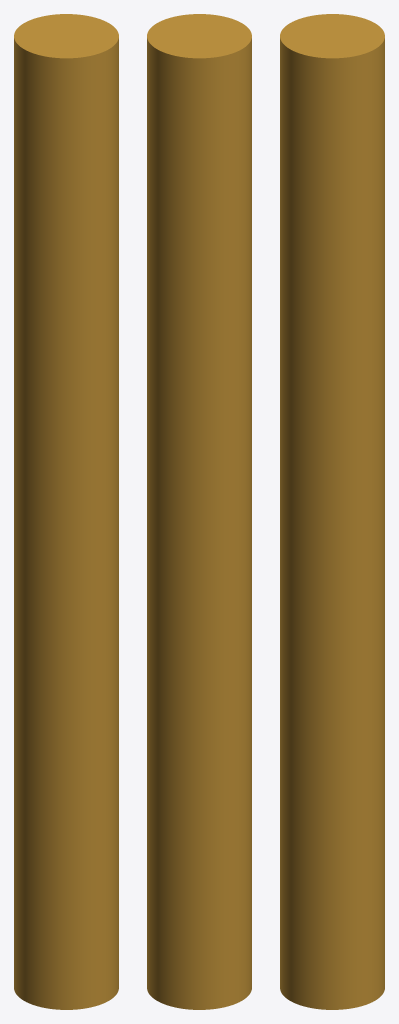
Rendered from PIN.obj.
3 views of the same model, side by side, from view 1: azimuth 30°, elevation 25°; view 2: azimuth 150°, elevation 25°; view 3: azimuth 330°, elevation 25° (orthographic).
Parts seen in each view (by area): view 1: Solid1; view 2: Solid1; view 3: Solid1.
Boxes of the visible parts, x1,y1,x2,y2 form: Solid1: (14,14,118,1009); Solid1: (147,14,251,1009); Solid1: (280,14,384,1009).
Bounding box in the file's own units: 2 × 20 × 2.
